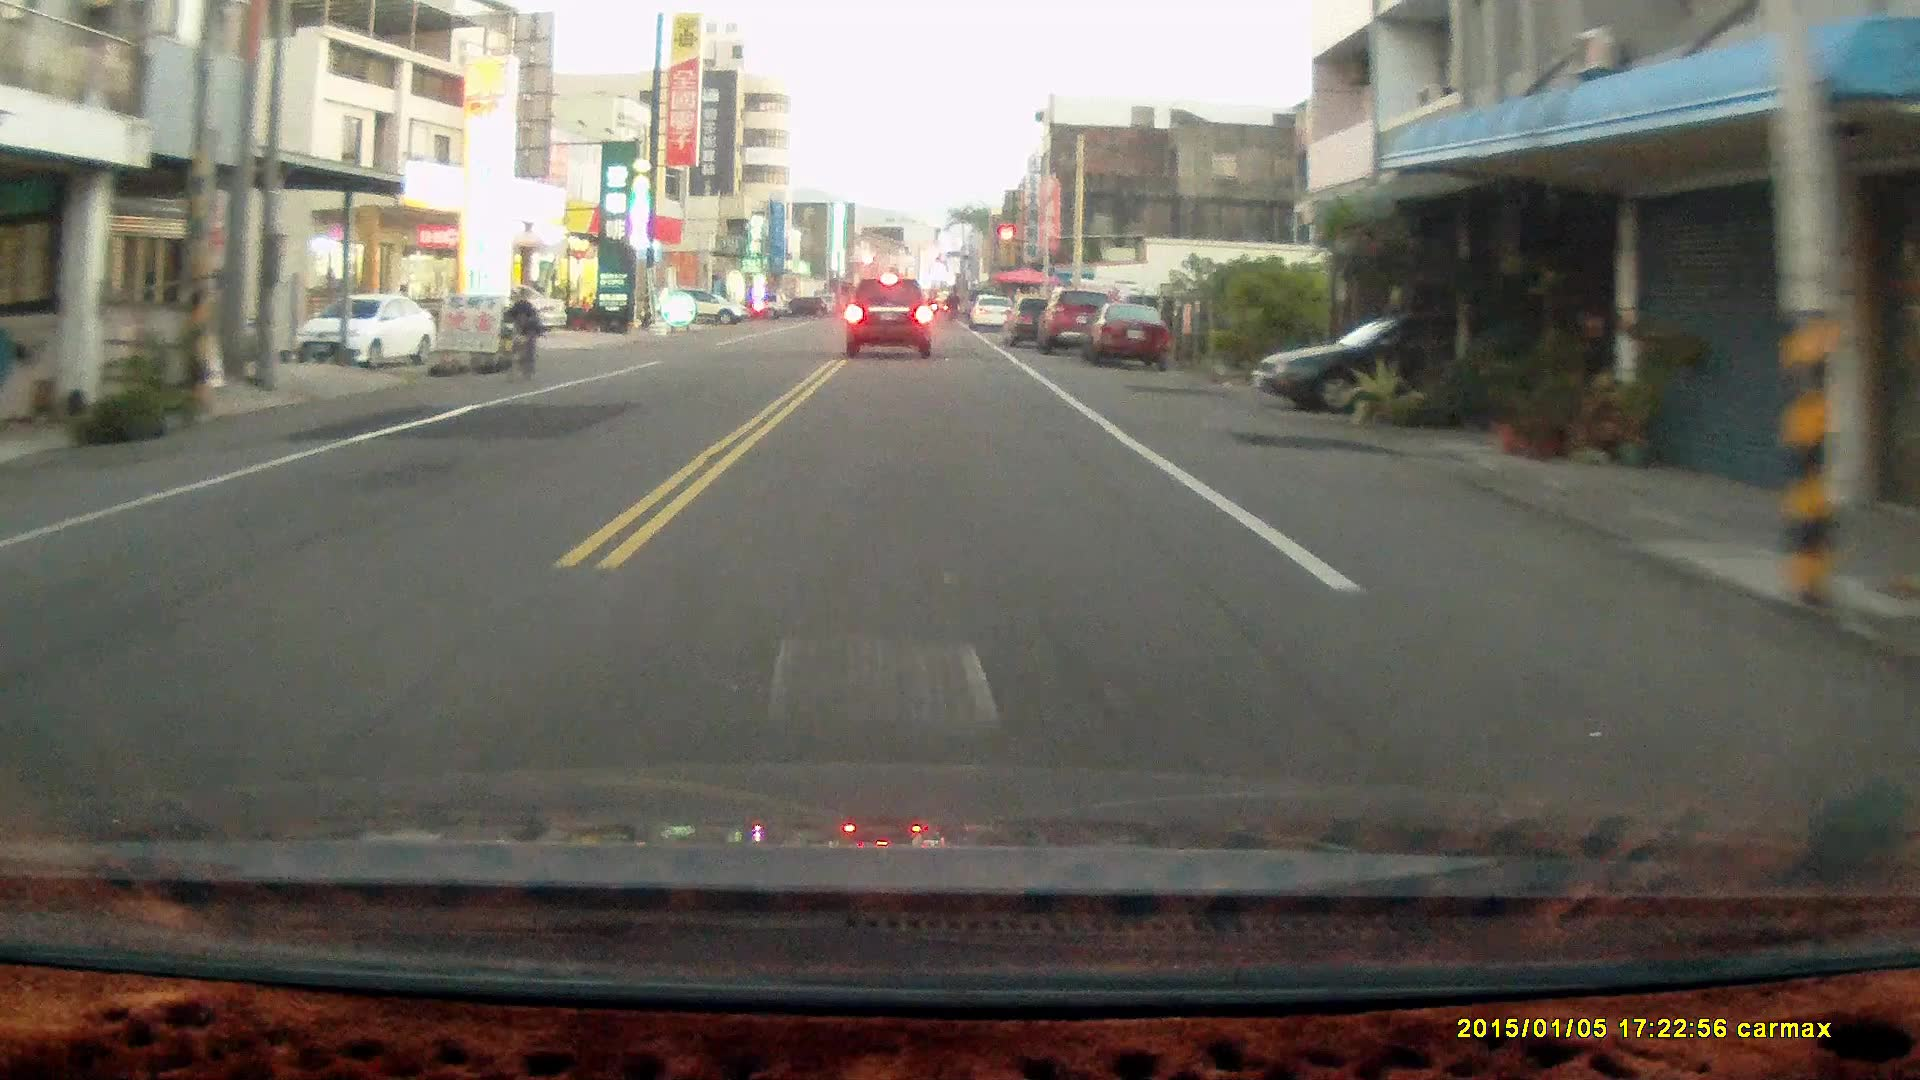rider: (497, 285, 537, 389)
vehicle: (1249, 307, 1564, 408), (293, 293, 435, 368), (434, 282, 571, 340), (842, 273, 937, 356), (1080, 302, 1173, 373), (1040, 284, 1119, 351), (660, 285, 746, 325)
